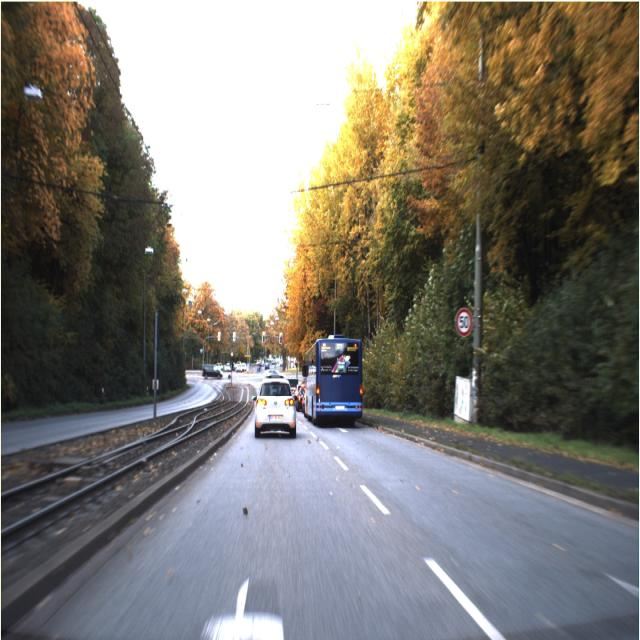speed limit 50: (456, 307, 472, 337)
